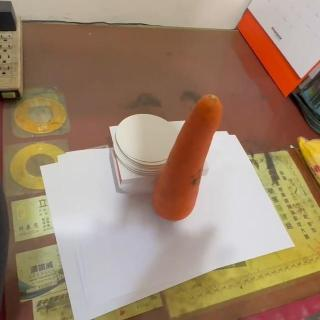carrot: (151, 93, 223, 223)
